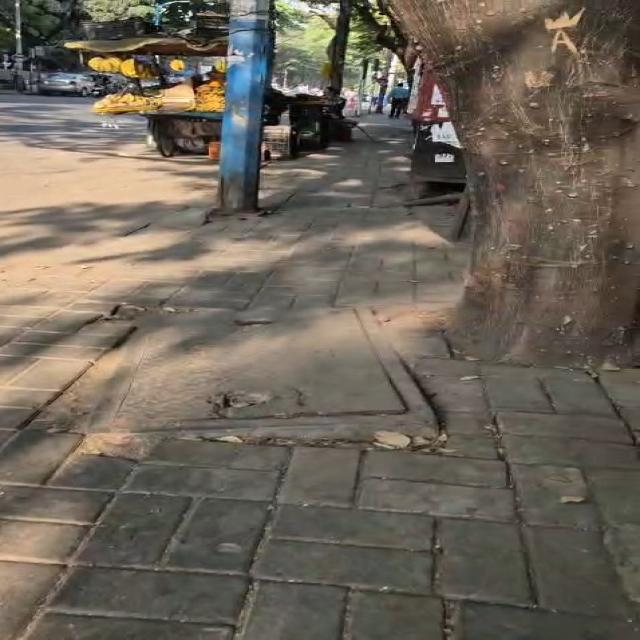obstacle: (219, 0, 271, 213), (375, 50, 392, 113), (14, 0, 24, 91), (355, 59, 369, 116), (15, 0, 22, 71)
vehicle: (30, 291, 462, 448)
